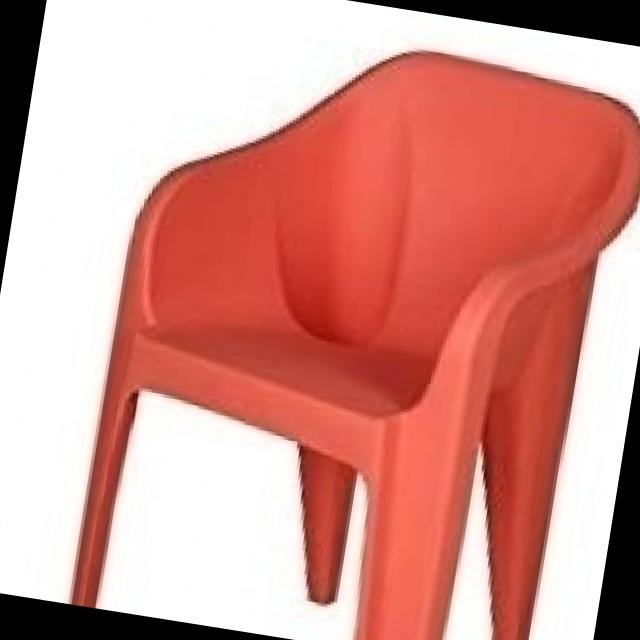Chair: (62, 4, 640, 640)
